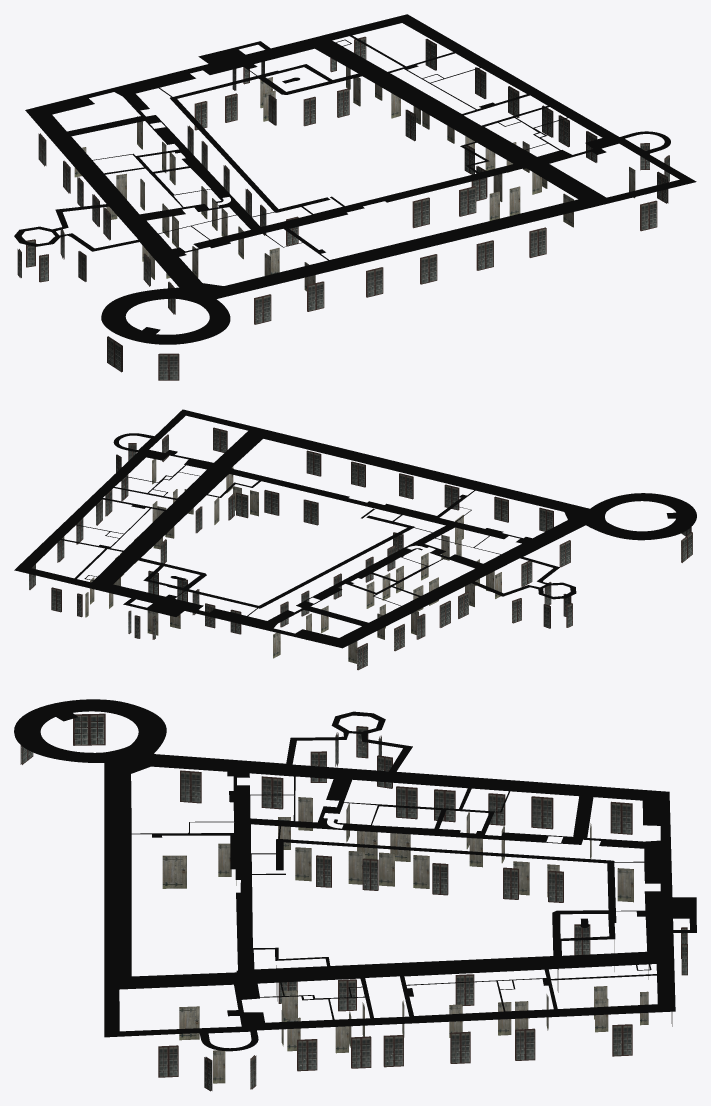
The model's file is 2_STAVS.fbx.
The picture shows the model from 3 angles, top to bottom: view 1: azimuth 30°, elevation 25°; view 2: azimuth 150°, elevation 25°; view 3: azimuth 270°, elevation 25°; orthographic projection. The views are drawn at different scales.
Parts seen in each view (by area): view 1: 2_GRIEZUMS, 2_LD; view 2: 2_GRIEZUMS, 2_LD; view 3: 2_GRIEZUMS, 2_LD.
Boxes of the visible parts, x1,y1,x2,y2 form: 2_GRIEZUMS: (14,14,696,344); 2_LD: (17,36,669,380); 2_GRIEZUMS: (14,409,696,648); 2_LD: (29,427,692,670); 2_GRIEZUMS: (14,699,696,1051); 2_LD: (20,713,687,1091).
Bounding box in the file's own units: 59881 × 4345 × 49116.
